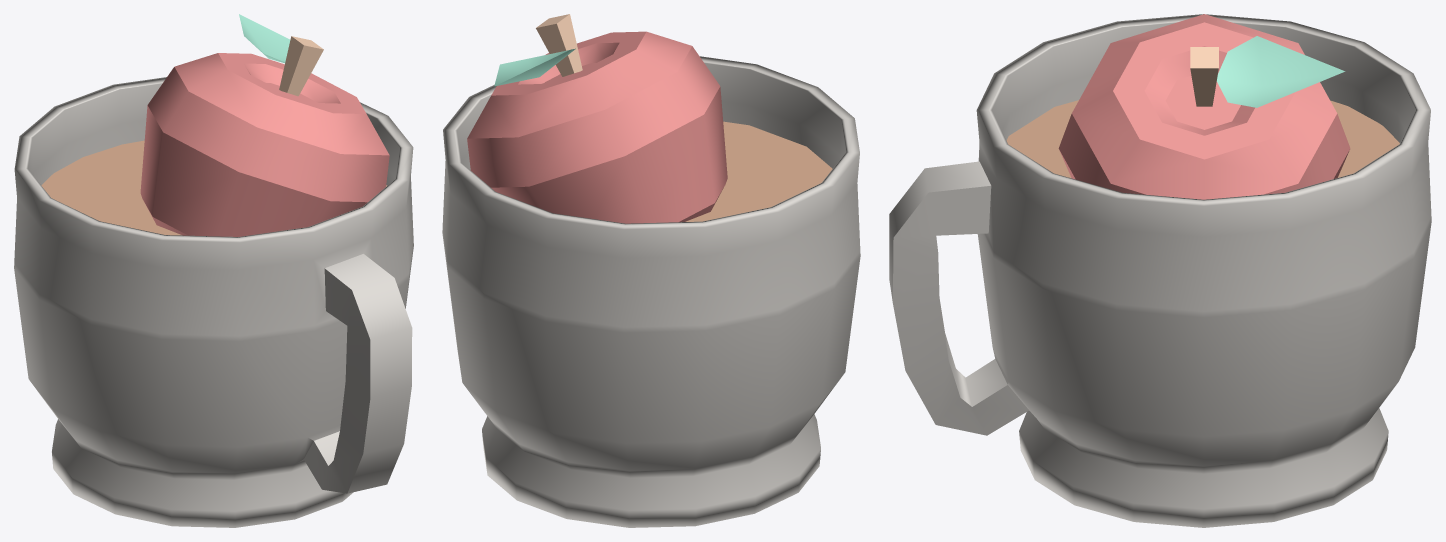
Rendered from Drink10_fruity.fbx.
3 renders of one model, left to right at view 1: azimuth 30°, elevation 25°; view 2: azimuth 150°, elevation 25°; view 3: azimuth 270°, elevation 25°, orthographic. The views are drawn at different scales.
Visible parts, largest first — view 1: nurbsToPoly1, apple, pDisc1; view 2: nurbsToPoly1, apple, pDisc1; view 3: nurbsToPoly1, apple, pDisc1.
Part boxes in pixels (x1,y1,x2,y2): nurbsToPoly1: [14, 77, 413, 527]; apple: [140, 14, 389, 236]; pDisc1: [41, 140, 386, 235]; nurbsToPoly1: [442, 56, 860, 527]; apple: [467, 14, 727, 223]; pDisc1: [685, 121, 832, 221]; nurbsToPoly1: [889, 14, 1431, 527]; apple: [1058, 14, 1350, 199]; pDisc1: [1006, 100, 1399, 178].
Bounding box in the file's own units: 30.65 × 33.38 × 36.48.
